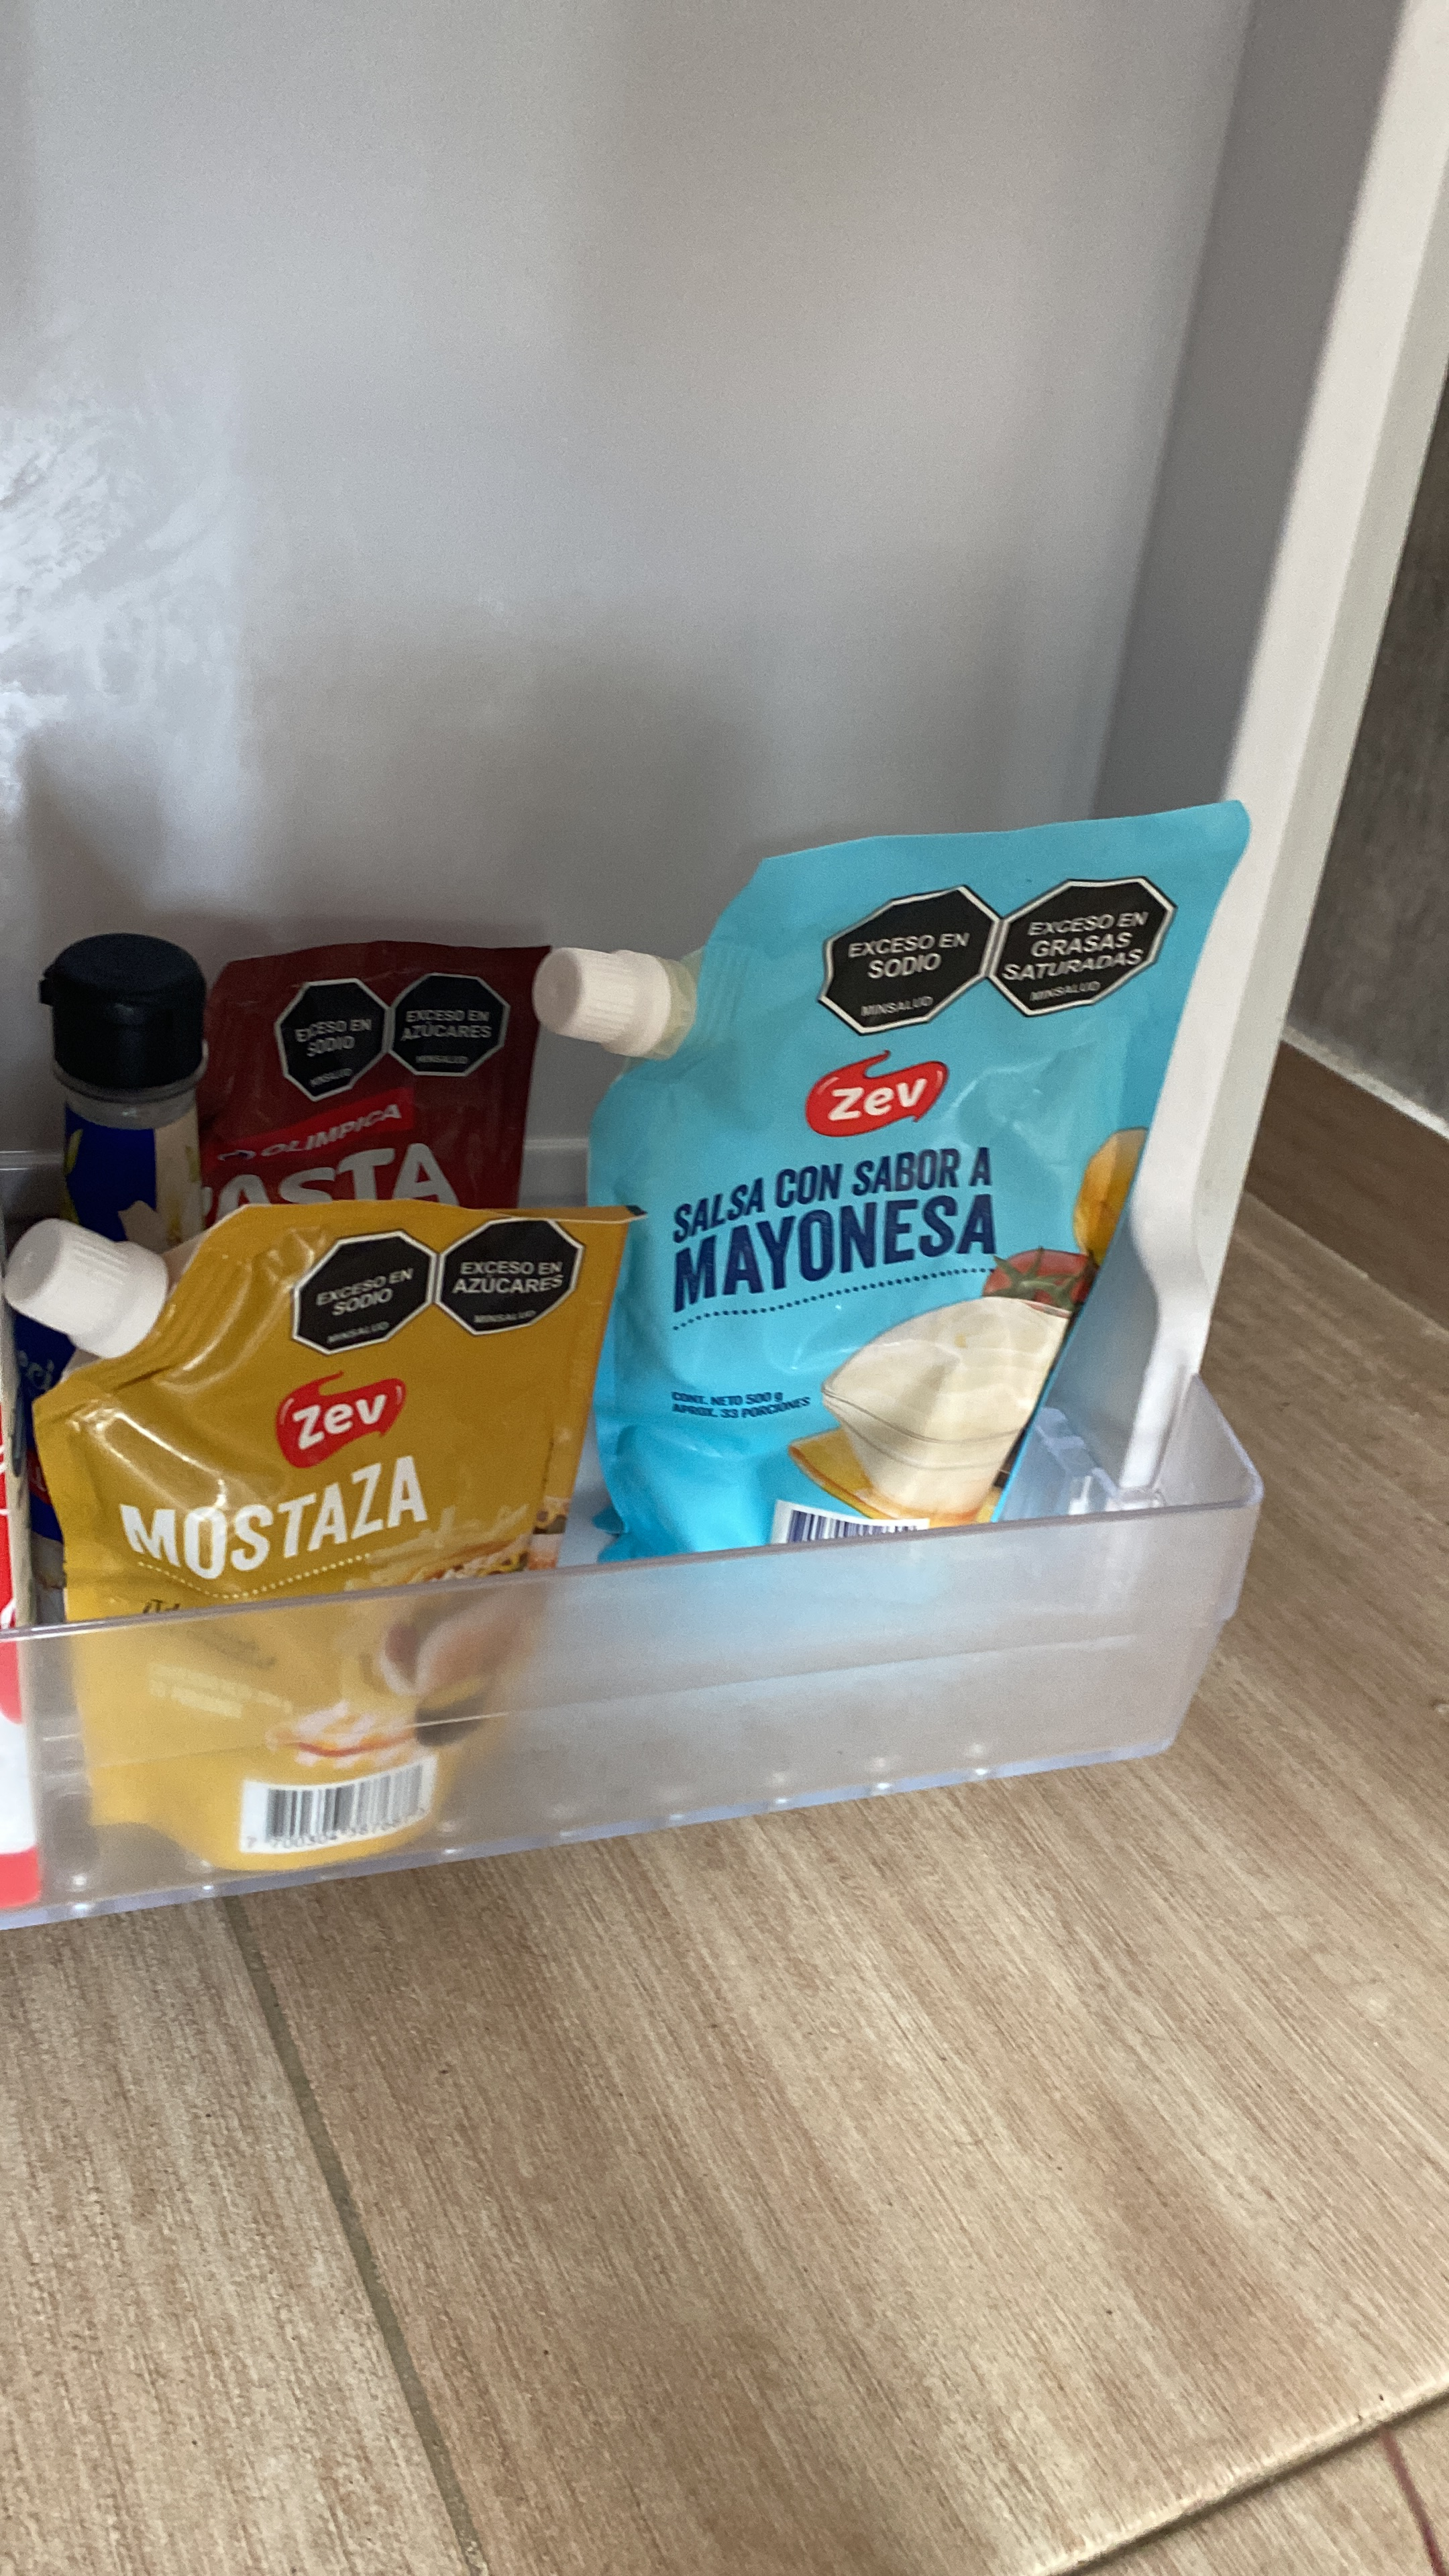Mayonesa: (524, 789, 1263, 1587)
